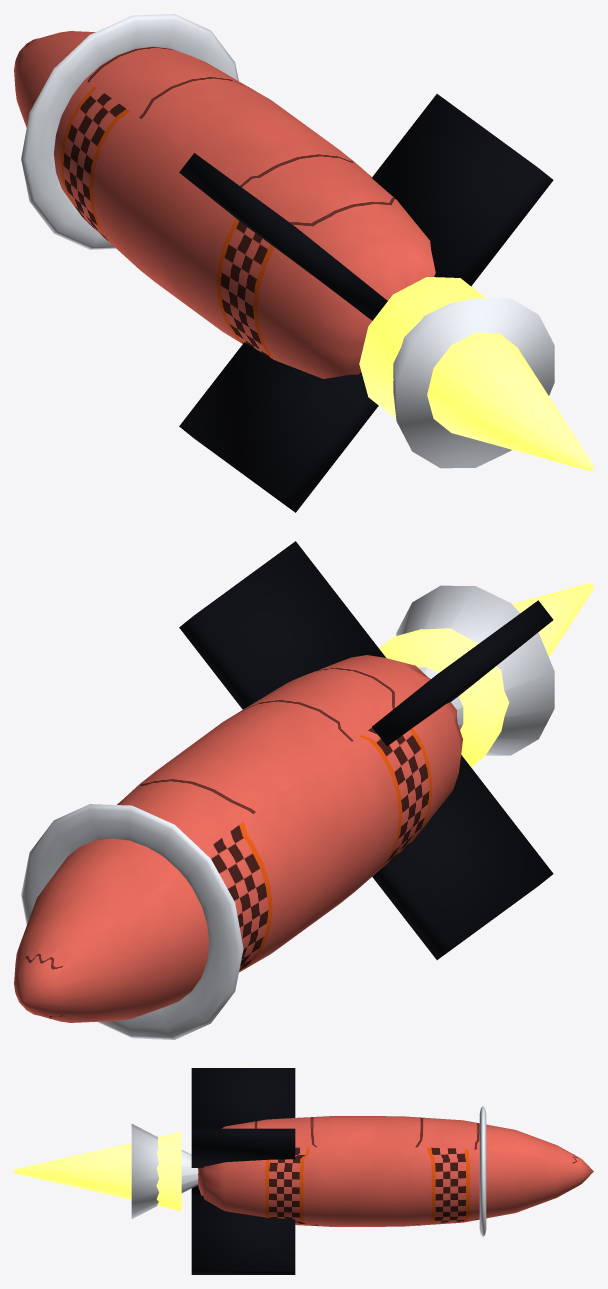
File: prop_weapon_missile.glb
The picture shows the model from 3 angles, top to bottom: view 1: azimuth 30°, elevation 25°; view 2: azimuth 150°, elevation 25°; view 3: azimuth 270°, elevation 25°; orthographic projection. The views are drawn at different scales.
Parts seen in each view (by area): view 1: RocketFuselage; view 2: RocketFuselage; view 3: RocketFuselage.
Boxes of the visible parts, <box> form: RocketFuselage: <box>14,14,593,512</box>; RocketFuselage: <box>14,541,593,1039</box>; RocketFuselage: <box>14,1068,593,1274</box>.
Size of the model in its own units: 0.8089 by 0.8089 by 2.91.
4 materials, 2 textured.
